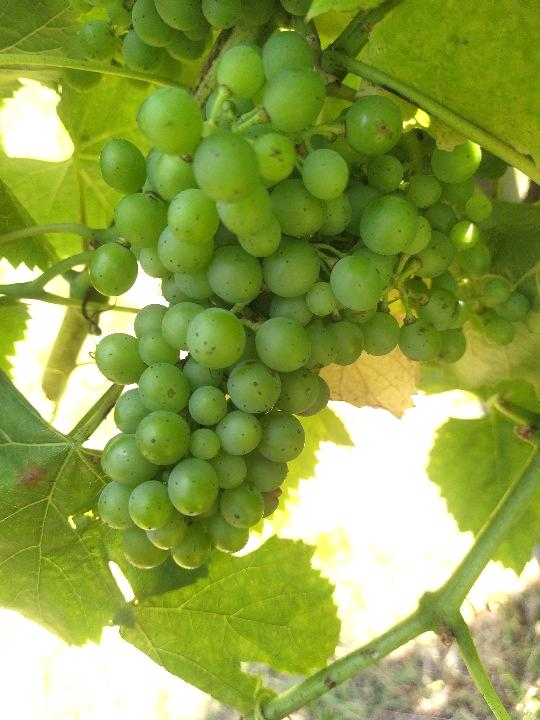grape: (82, 28, 529, 577)
